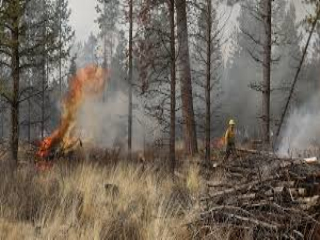fire: (32, 56, 117, 163)
smoke: (96, 87, 180, 155), (259, 84, 319, 174)
